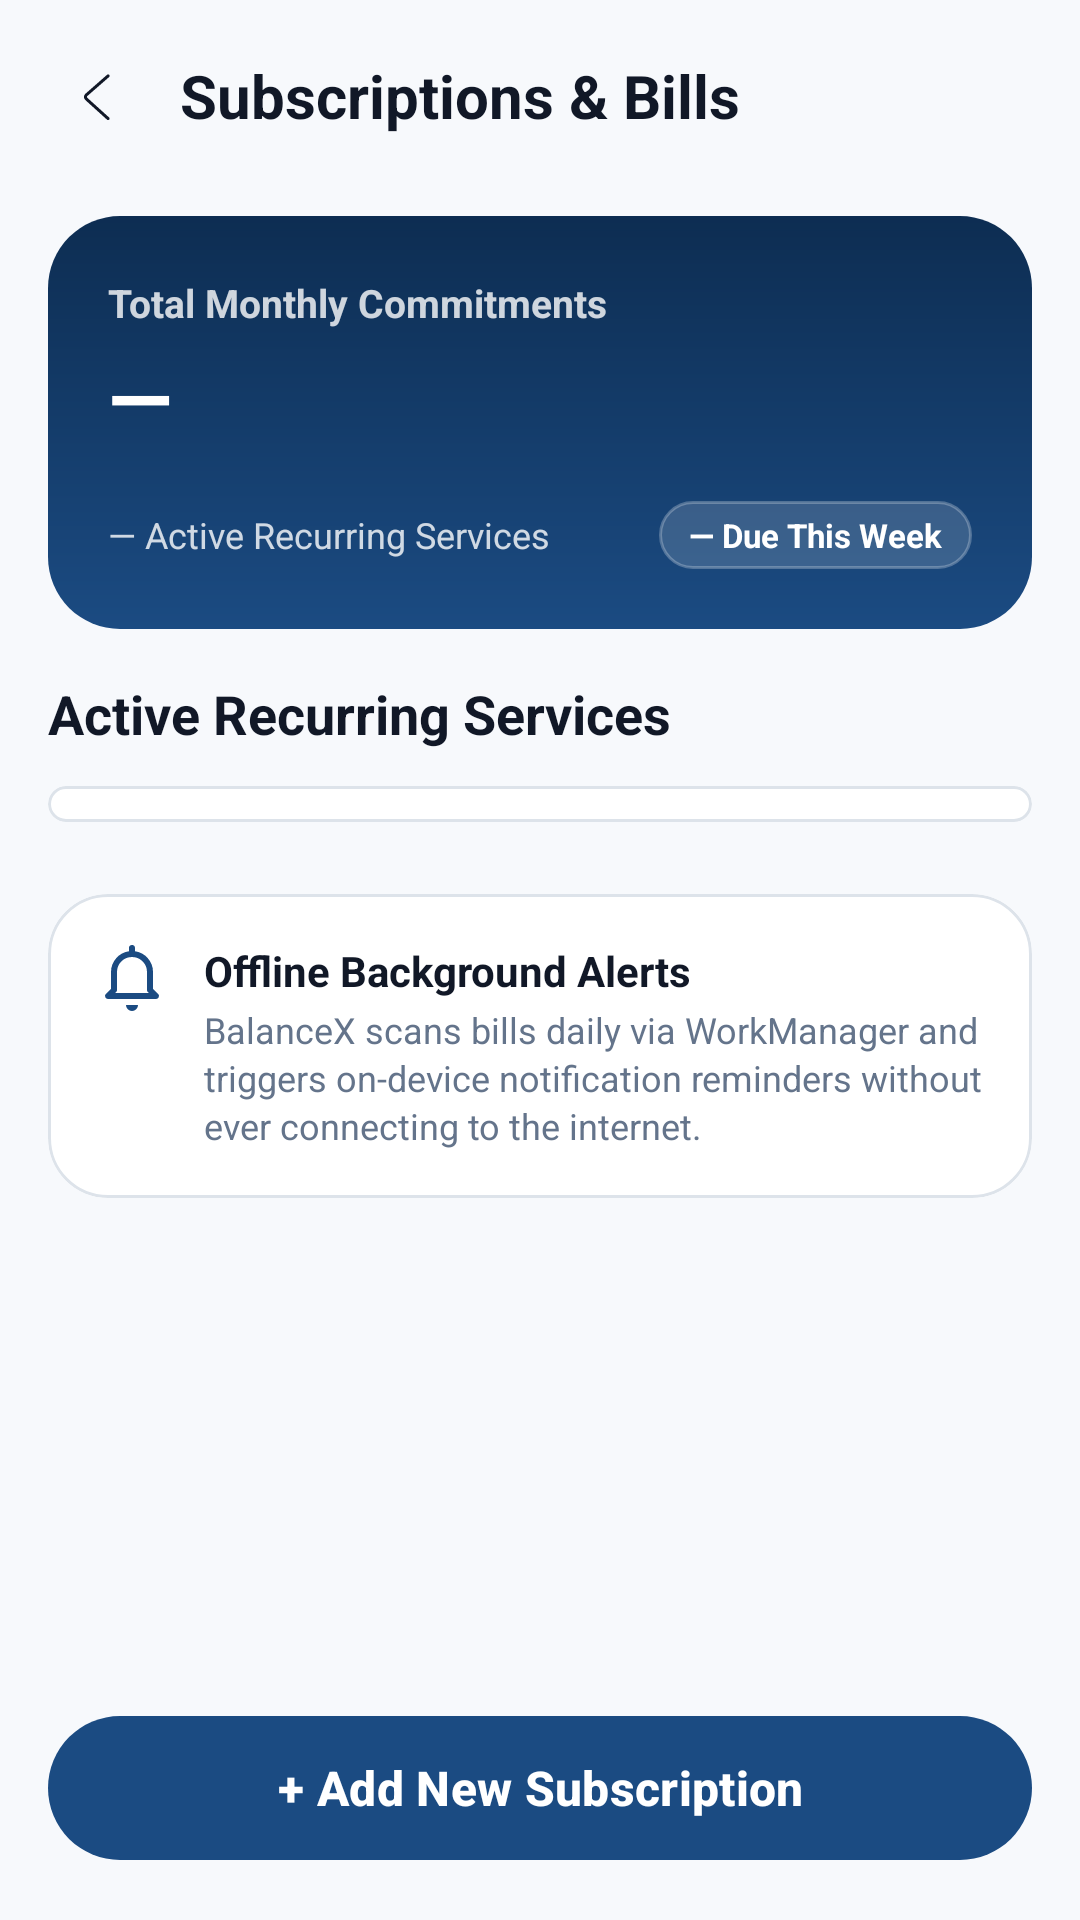

Point at icon controls on the screen. Image size 1080px x 1920px, points as [x,y].
Back: [97,97]
Notification bell icon: [132,978]
